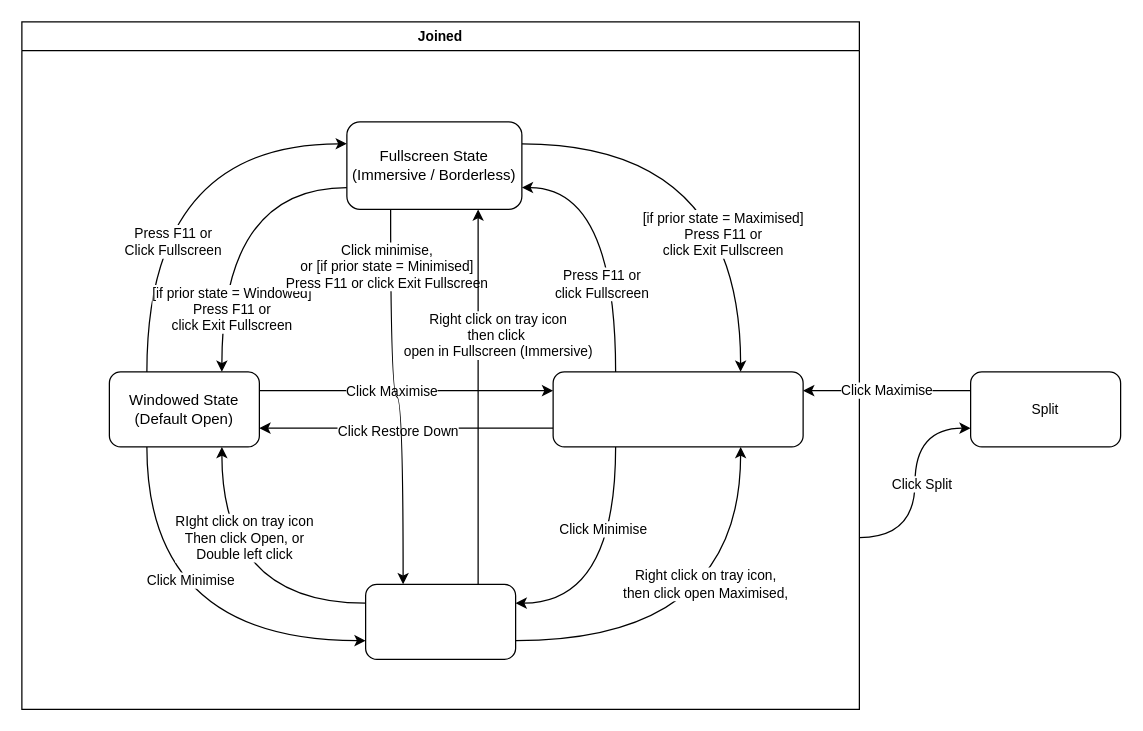
This 1143x731 diagram has some shape labels left out. The shapes that lost their labels are listed below. From the top down, each one's centre as x and y in pixels, then its label:
the point at 677,409: Maximised State (Full Screen)
the point at 440,621: Minimised
